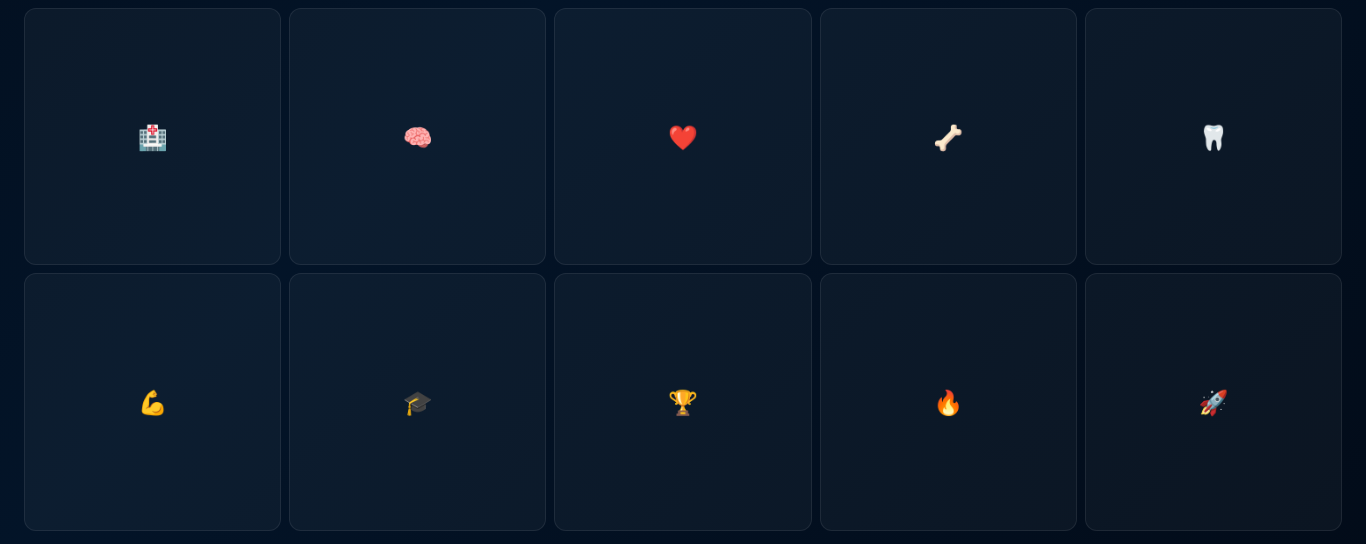
it: AvatarScreen › selecting an avatar updates the store and the preview
(page scrolled)
Click the radio button named "rocket" at (1213, 402), box [1085,273,1342,531]
(page scrolled)
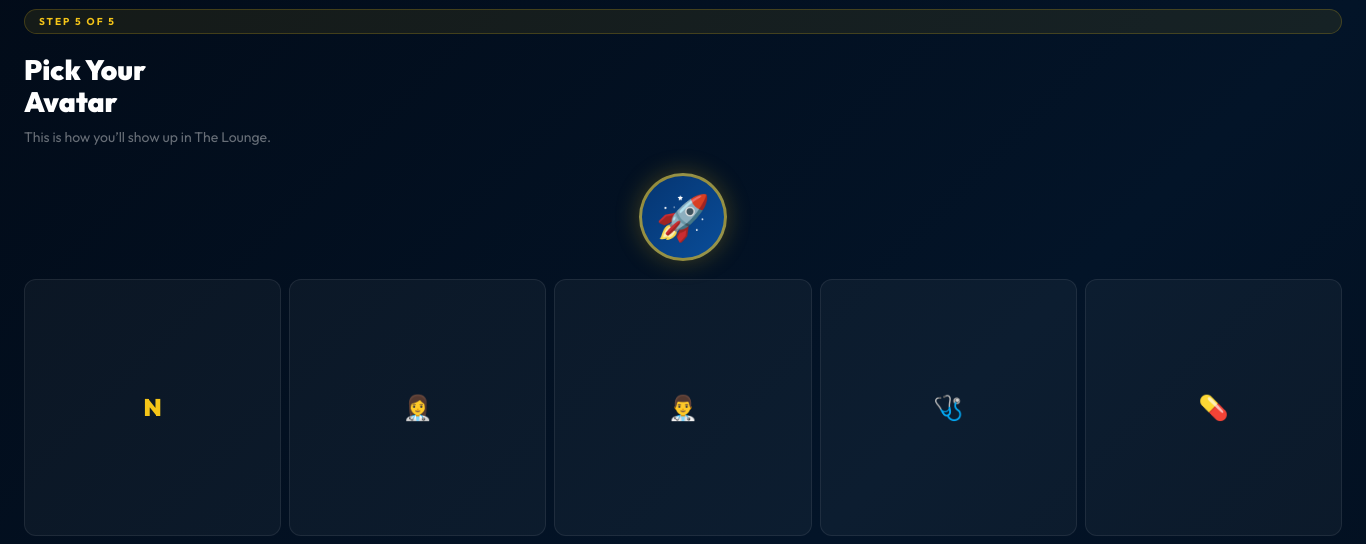
Expected: the text named "avatar preview" reads "🚀", [656,189,710,244]
